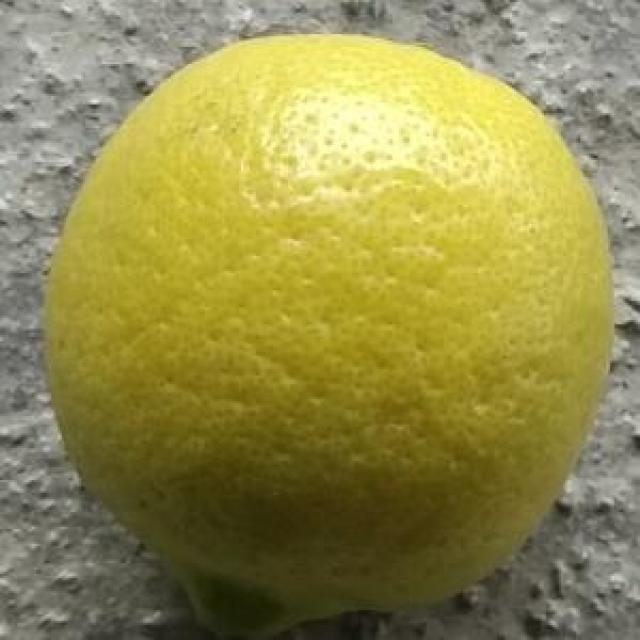lemon: (38, 29, 620, 640)
